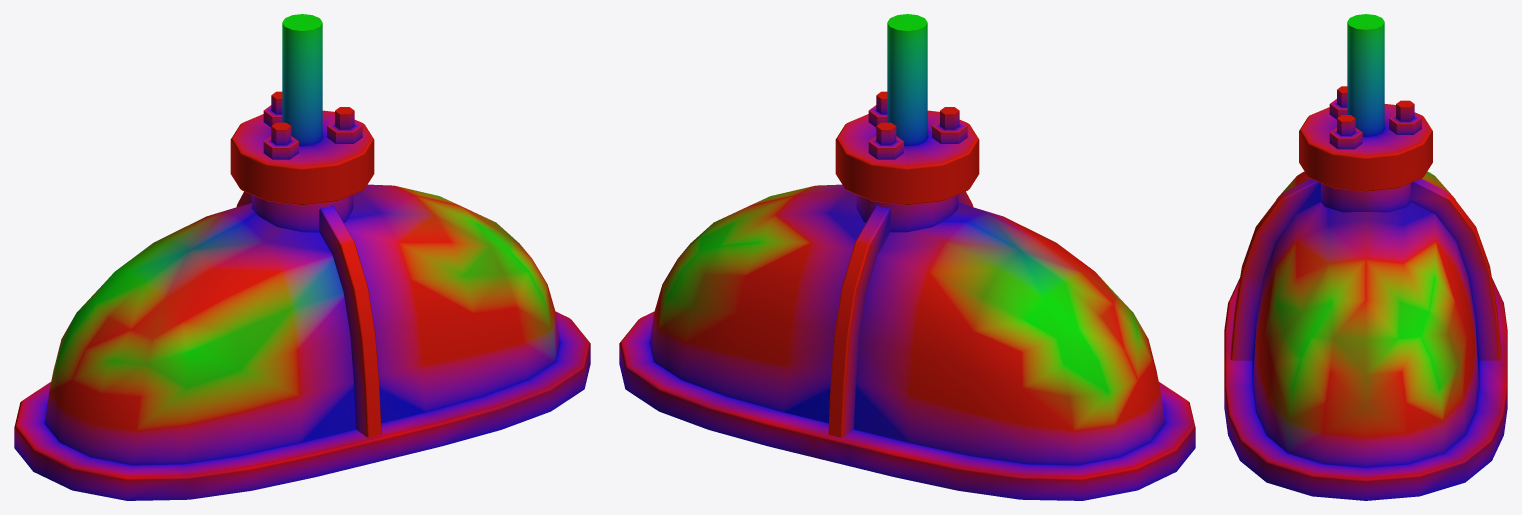
File: SmallMetalPropsA.fbx
3 views of the same model, side by side, from view 1: azimuth 30°, elevation 25°; view 2: azimuth 150°, elevation 25°; view 3: azimuth 270°, elevation 25° (orthographic). The views are drawn at different scales.
Visible parts, largest first — view 1: Cube.003; view 2: Cube.003; view 3: Cube.003.
Part boxes in pixels (x1=…): Cube.003: x1=14, y1=14, x2=590, y2=500; Cube.003: x1=619, y1=14, x2=1195, y2=500; Cube.003: x1=1224, y1=14, x2=1507, y2=500.
Size of the model in its own units: 147 by 100 by 72.
